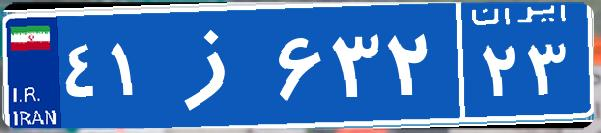1: (110, 28, 158, 105)
2: (385, 28, 445, 110), (475, 38, 525, 113)
3: (330, 28, 385, 110), (525, 38, 570, 115)
4: (57, 26, 110, 107)
6: (273, 28, 330, 110)
ز: (158, 15, 273, 115)
